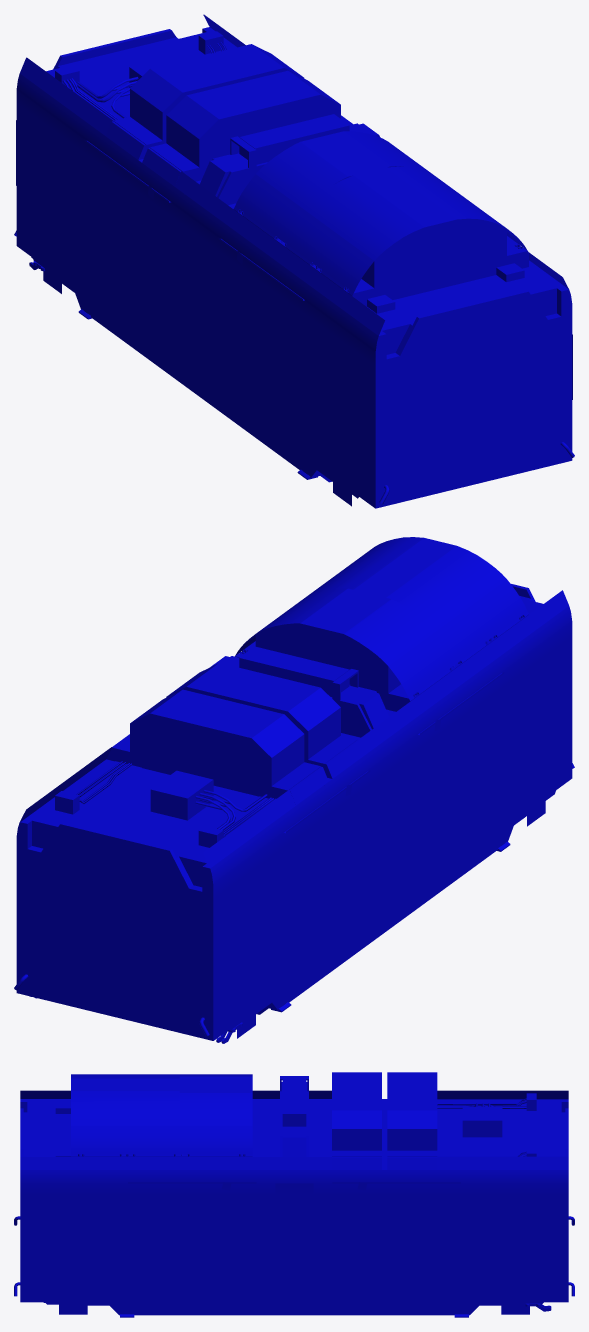
3 views of the same model, one above another, from view 1: azimuth 30°, elevation 25°; view 2: azimuth 150°, elevation 25°; view 3: azimuth 270°, elevation 25° (orthographic). The views are drawn at different scales.
Parts seen in each view (by area): view 1: omneo 2.014Regio 2N STIF 8-car; view 2: omneo 2.014Regio 2N STIF 8-car; view 3: omneo 2.014Regio 2N STIF 8-car.
Boxes of the visible parts, x1,y1,x2,y2 form: omneo 2.014Regio 2N STIF 8-car: (14,14,574,508); omneo 2.014Regio 2N STIF 8-car: (14,537,574,1043); omneo 2.014Regio 2N STIF 8-car: (14,1072,574,1317).
Size of the model in its own units: 3.14 by 4.29 by 9.84.
